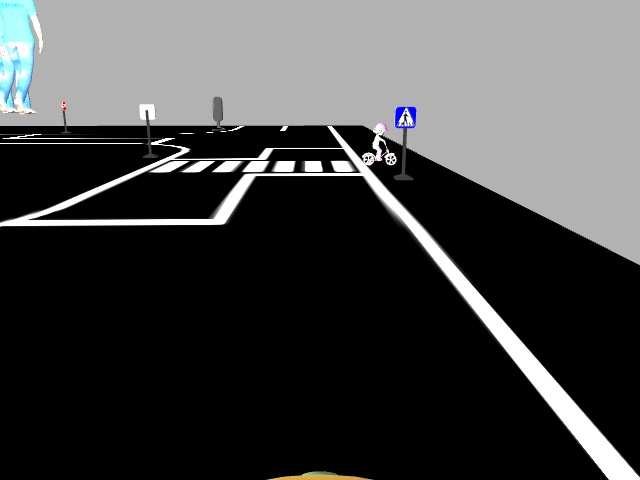Pedestrian: (356, 119, 396, 168)
